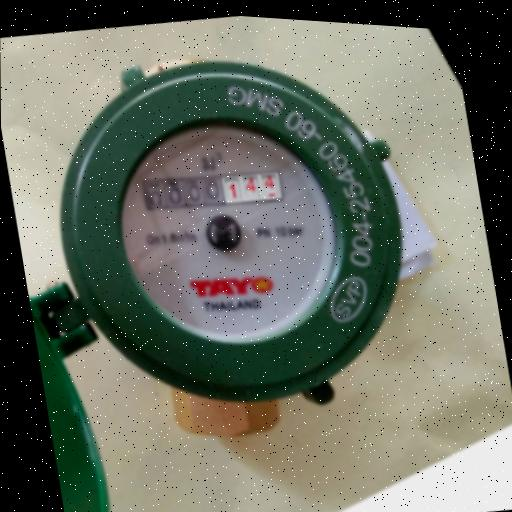0: (145, 181, 163, 208), (164, 180, 181, 206), (184, 178, 201, 204), (203, 177, 219, 203)
1: (224, 178, 241, 201)
4: (261, 173, 277, 198), (241, 176, 258, 199)
border_water_meter_number: (142, 158, 283, 222)
